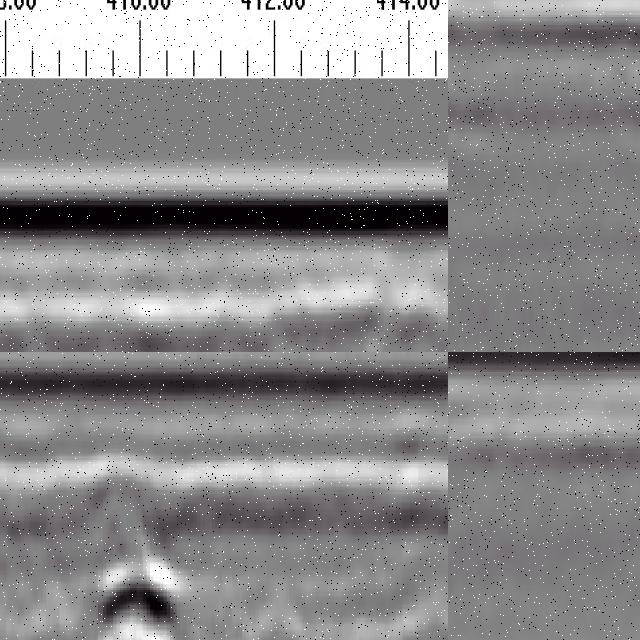crack: (95, 500, 174, 640)
